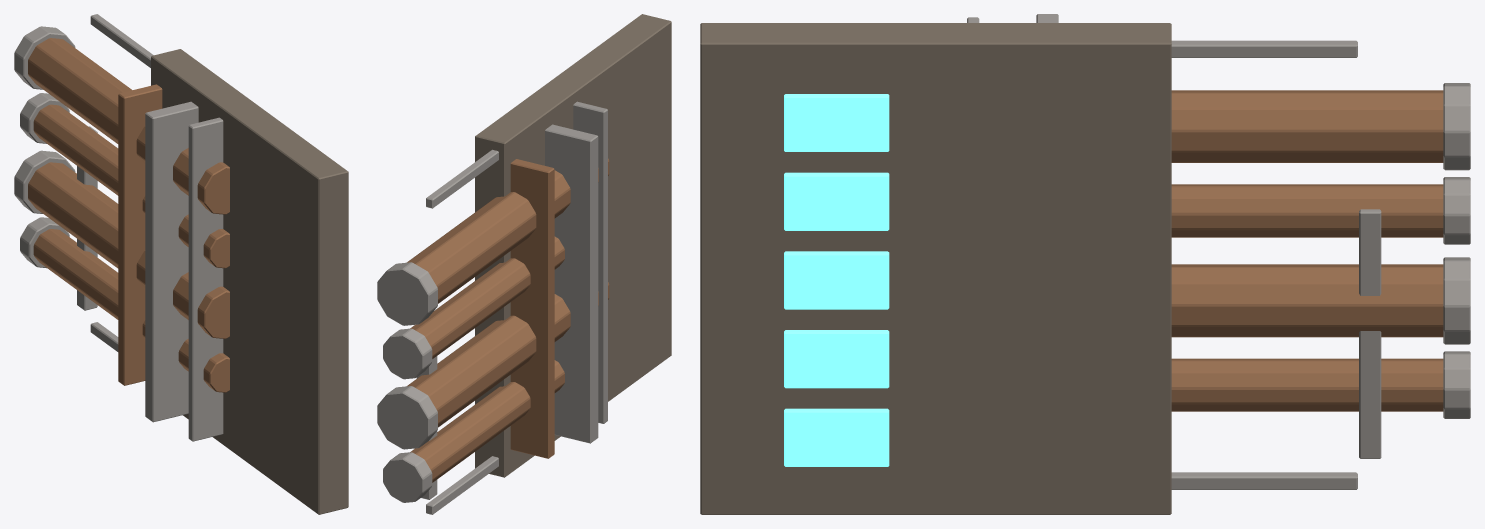
Rendered from facade_pipe_l.glb.
3 renders of one model, left to right at view 1: azimuth 30°, elevation 25°; view 2: azimuth 150°, elevation 25°; view 3: azimuth 270°, elevation 25°, orthographic. The views are drawn at different scales.
Parts seen in each view (by area): view 1: FacadePipe_L; view 2: FacadePipe_L; view 3: FacadePipe_L.
Boxes of the visible parts, x1,y1,x2,y2 form: FacadePipe_L: (14,14,348,514); FacadePipe_L: (377,14,671,514); FacadePipe_L: (700,14,1470,514).
Size of the model in its own units: 1.05 by 4.2 by 6.21.
